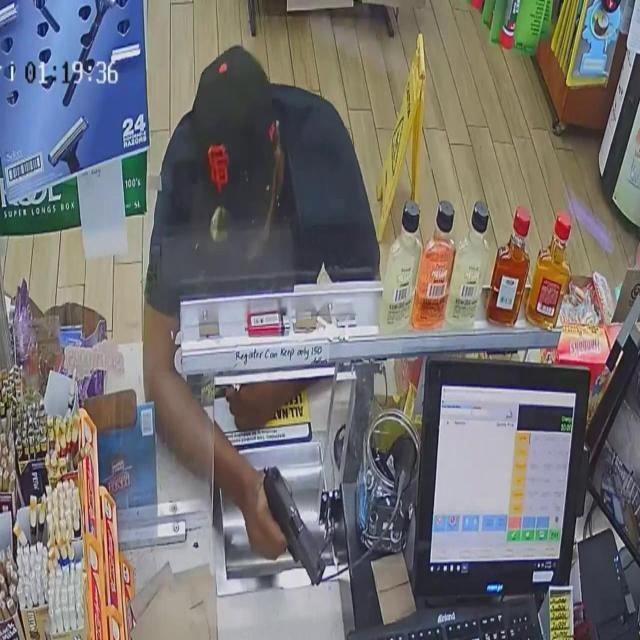pistol: (250, 462, 334, 585)
